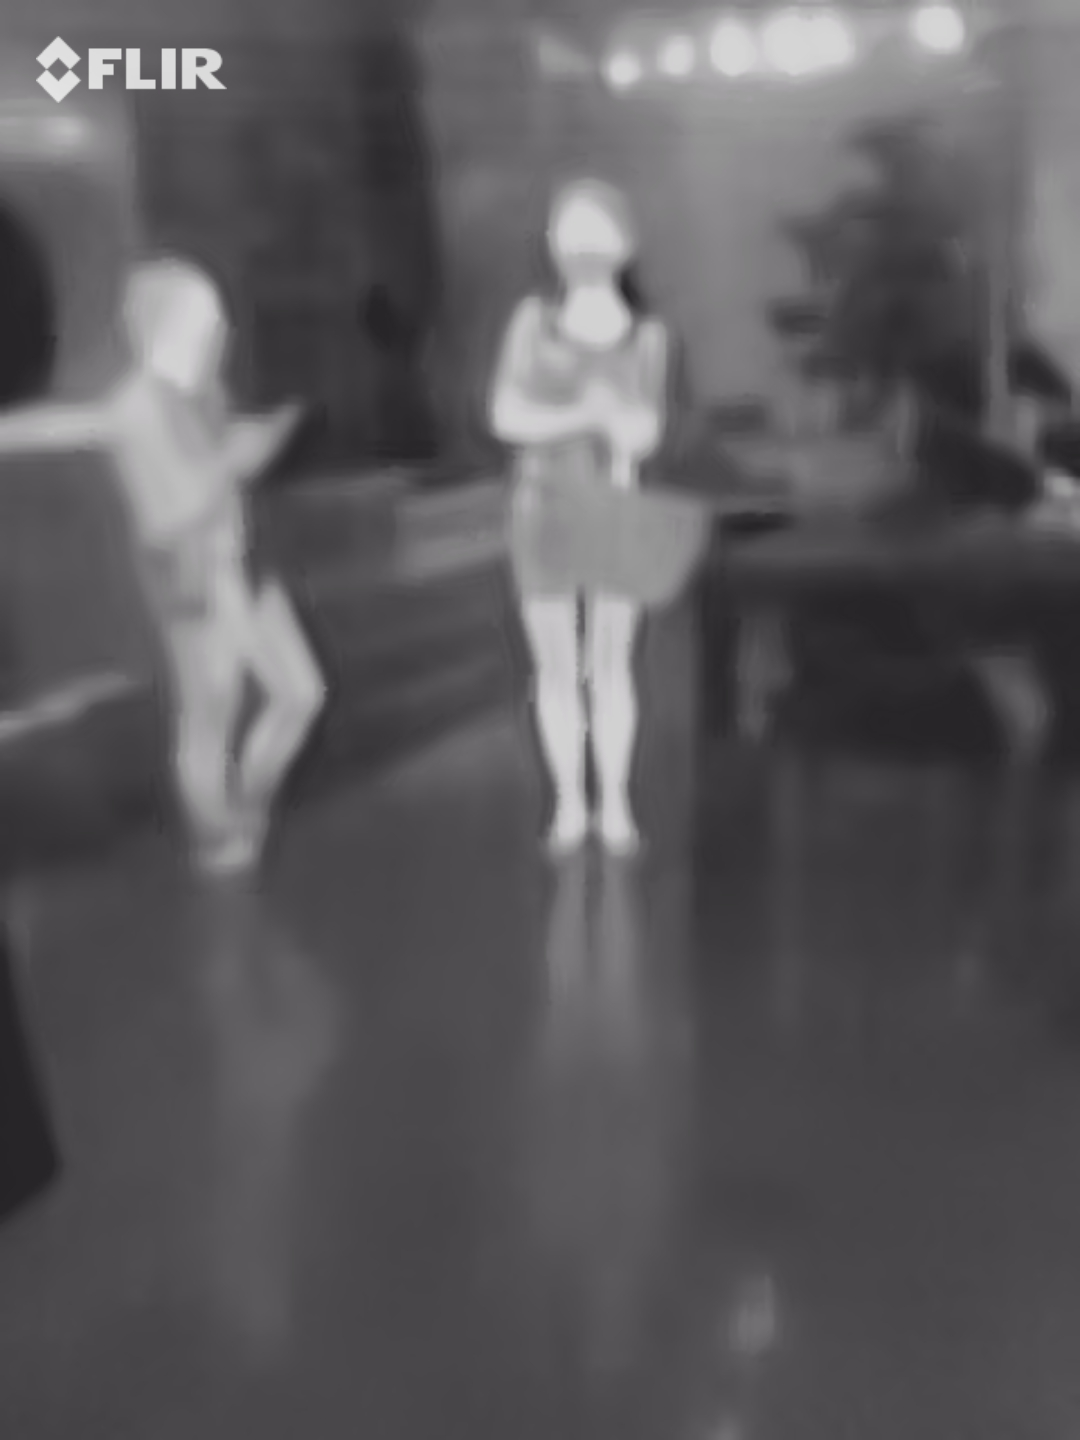head: (539, 177, 638, 300)
